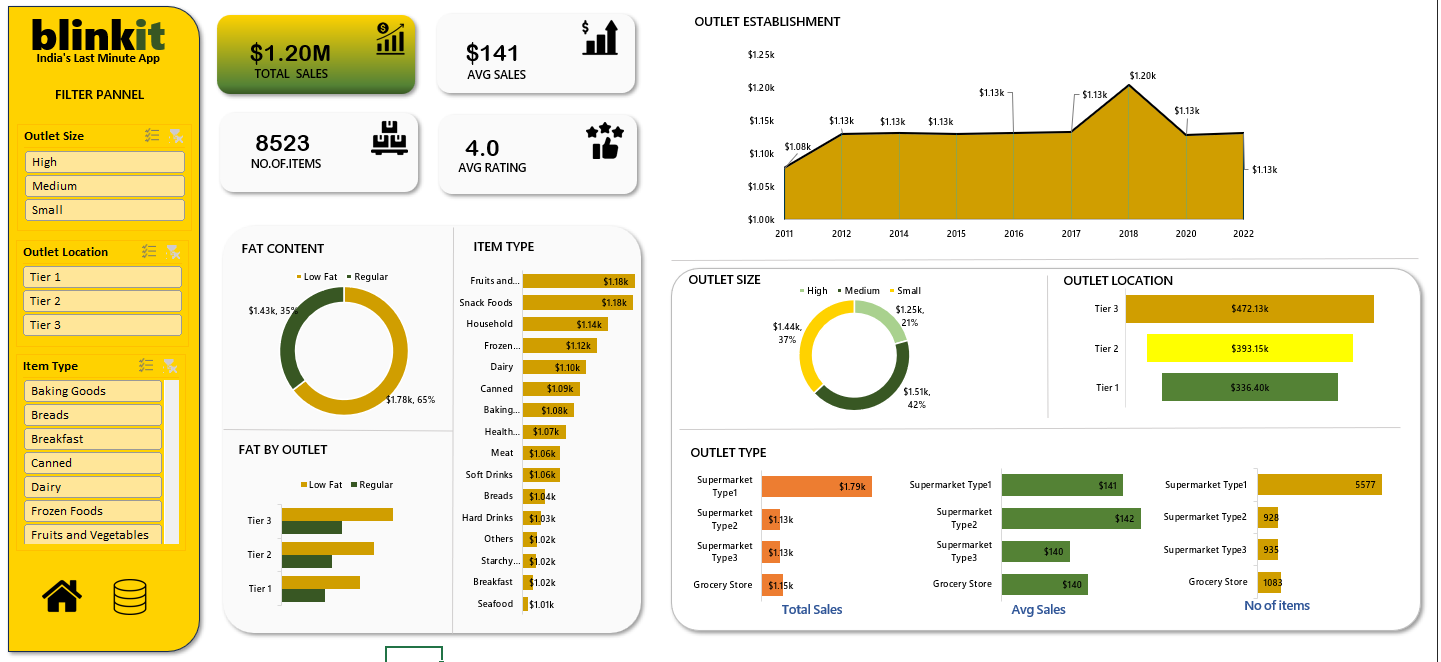

The dashboard page shown, as its layout file describes it:
{"tool":"powerbi","page":{"name":"Page 1","canvas":[1400,800],"ordinal":0},"visuals":[{"type":"shape","box":[36,51,205.6,748.9],"z":0},{"type":"textbox","box":[36,51,198.1,69],"z":1000},{"type":"textbox","box":[49.5,103.6,171.1,34.5],"z":2000},{"type":"cardVisual","fields":{"Data":["BlinkIT Grocery Data.total sales","BlinkIT Grocery Data.avg sales","BlinkIT Grocery Data.no of items","BlinkIT Grocery Data.average rating","BlinkIT Grocery Data.total sales"]},"box":[233.6,51.1,561.7,235.2],"z":3000},{"type":"shape","box":[241.4,284.7,553.9,515.3],"z":4000},{"type":"donutChart","title":"FAT CONTENT","fields":{"Y":["BlinkIT Grocery Data.Total Sales"],"Category":["BlinkIT Grocery Data.Item Fat Content"]},"box":[256.9,338.9,219.7,219.7],"z":5000},{"type":"slicer","fields":{"Values":["metrics.metrics"]},"box":[270.8,298.6,465.7,40.2],"z":6000},{"type":"cardVisual","fields":{"Data":["BlinkIT Grocery Data.Total Sales"]},"box":[314.1,425.5,105.2,72.7],"z":7000},{"type":"clusteredBarChart","title":"FAT BY OUTLET","fields":{"Y":["BlinkIT Grocery Data.Total Sales"],"Category":["BlinkIT Grocery Data.Outlet Location Type"],"Series":["BlinkIT Grocery Data.Item Fat Content"]},"box":[257.4,559,219.8,229.2],"z":8000},{"type":"shape","box":[256,537.5,235.9,34.9],"z":9000},{"type":"shape","box":[450.3,345,85.1,428.6],"z":10000},{"type":"barChart","title":"ITEM TYPE","fields":{"Y":["BlinkIT Grocery Data.Total Sales"],"Category":["BlinkIT Grocery Data.Item Type"]},"box":[492,342,289.3,434.8],"z":11000},{"type":"shape","box":[786.5,51,597.3,748.9],"z":12000},{"type":"lineChart","title":"OUTLET ESTABLISHMENT","fields":{"Y":["BlinkIT Grocery Data.Total Sales"],"Category":["BlinkIT Grocery Data.Outlet Establishment Year"]},"box":[810.5,61.5,561.3,225.1],"z":13000},{"type":"shape","box":[810.5,286.7,561.3,34.5],"z":14000},{"type":"donutChart","title":"OUTLET SIZE","fields":{"Y":["BlinkIT Grocery Data.Total Sales"],"Category":["BlinkIT Grocery Data.Outlet Size"]},"box":[805.6,312.3,273.5,225.2],"z":15000},{"type":"shape","box":[750.4,372.2,84,427.7],"z":16000},{"type":"shape","box":[1067.1,315.2,37.5,211.6],"z":17000},{"type":"funnel","title":"OUTLET LOCATION","fields":{"Category":["BlinkIT Grocery Data.Outlet Location Type"],"Y":["Sum(BlinkIT Grocery Data.Sales)"]},"box":[1107.6,313.7,238.6,211.6],"z":18000},{"type":"shape","box":[806,510.3,561.3,34.5],"z":19000},{"type":"pivotTable","title":"OUTLET TYPE","fields":{"Values":["BlinkIT Grocery Data.Total Sales","BlinkIT Grocery Data.Avg Sales","BlinkIT Grocery Data.No of Items","BlinkIT Grocery Data.Average Rating","Sum(BlinkIT Grocery Data.Item Visibility)"],"Rows":["BlinkIT Grocery Data.Outlet Type"]},"box":[803.8,558.9,561.9,228.4],"z":20000},{"type":"slicer","fields":{"Values":["BlinkIT Grocery Data.Outlet Location Type"]},"box":[53.6,286.9,171.6,73.7],"z":21000},{"type":"slicer","fields":{"Values":["BlinkIT Grocery Data.Outlet Size"]},"box":[53.6,372.7,171.6,64.3],"z":22000},{"type":"slicer","fields":{"Values":["BlinkIT Grocery Data.Item Type"]},"box":[53.6,449.1,171.6,64.3],"z":23000},{"type":"textbox","box":[83.1,241.3,128.7,28.2],"z":24000}]}

Visuals, with their boxes on the page's 1400x800 design canvas (x1, y1, x2, y2). These are canvas units, not pixel positions in the 1441x662 screenshot, which may show the page scaled, cropped or inside an application window:
shape: [x1=36, y1=51, x2=242, y2=800]
textbox: [x1=36, y1=51, x2=234, y2=120]
textbox: [x1=50, y1=104, x2=221, y2=138]
cardVisual - BlinkIT Grocery Data.total sales x BlinkIT Grocery Data.avg sales: [x1=234, y1=51, x2=795, y2=286]
shape: [x1=241, y1=285, x2=795, y2=800]
"FAT CONTENT" donutChart: [x1=257, y1=339, x2=477, y2=559]
slicer - metrics.metrics: [x1=271, y1=299, x2=736, y2=339]
cardVisual - BlinkIT Grocery Data.Total Sales: [x1=314, y1=426, x2=419, y2=498]
"FAT BY OUTLET" clusteredBarChart: [x1=257, y1=559, x2=477, y2=788]
shape: [x1=256, y1=538, x2=492, y2=572]
shape: [x1=450, y1=345, x2=535, y2=774]
"ITEM TYPE" barChart: [x1=492, y1=342, x2=781, y2=777]
shape: [x1=786, y1=51, x2=1384, y2=800]
"OUTLET ESTABLISHMENT" lineChart: [x1=810, y1=62, x2=1372, y2=287]
shape: [x1=810, y1=287, x2=1372, y2=321]
"OUTLET SIZE" donutChart: [x1=806, y1=312, x2=1079, y2=538]
shape: [x1=750, y1=372, x2=834, y2=800]
shape: [x1=1067, y1=315, x2=1105, y2=527]
"OUTLET LOCATION" funnel: [x1=1108, y1=314, x2=1346, y2=525]
shape: [x1=806, y1=510, x2=1367, y2=545]
"OUTLET TYPE" pivotTable: [x1=804, y1=559, x2=1366, y2=787]
slicer - BlinkIT Grocery Data.Outlet Location Type: [x1=54, y1=287, x2=225, y2=361]
slicer - BlinkIT Grocery Data.Outlet Size: [x1=54, y1=373, x2=225, y2=437]
slicer - BlinkIT Grocery Data.Item Type: [x1=54, y1=449, x2=225, y2=513]
textbox: [x1=83, y1=241, x2=212, y2=270]
